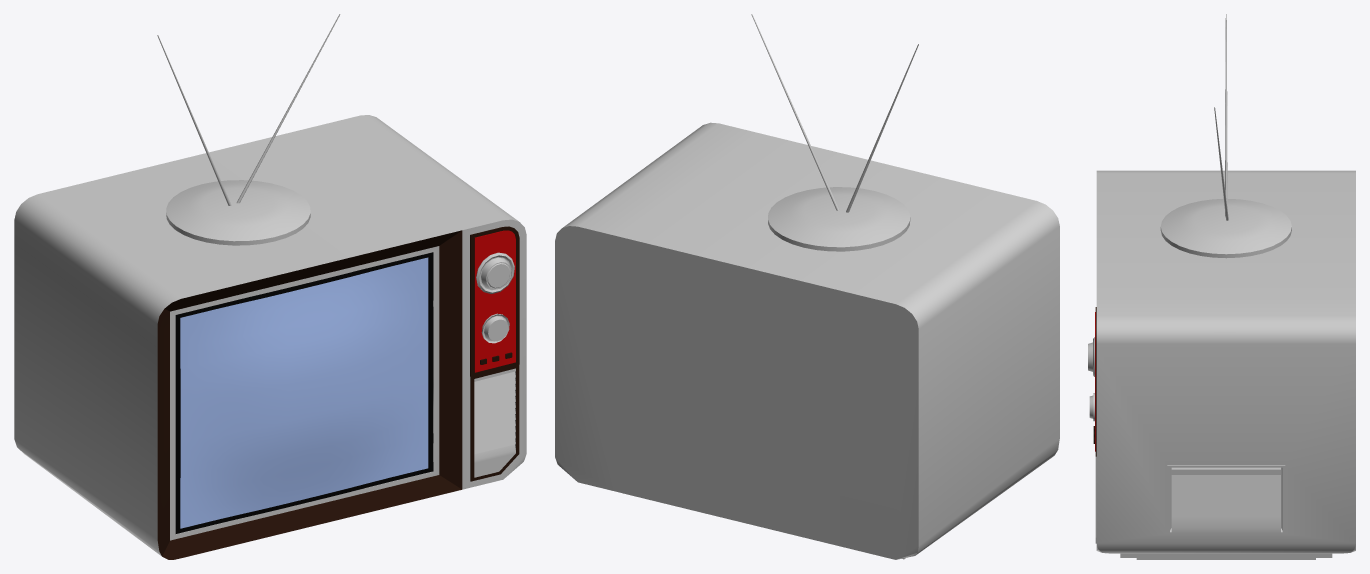
Rendered from retro_tv1.obj.
3 views of the same model, side by side, from view 1: azimuth 30°, elevation 25°; view 2: azimuth 150°, elevation 25°; view 3: azimuth 270°, elevation 25° (orthographic). The views are drawn at different scales.
Parts seen in each view (by area): view 1: Cube, Cube.005, Cylinder.002, Retopo_Cylinder, Retopo_Cylinder.001; view 2: Cube, Cylinder.002; view 3: Cube, Cube.004, Cylinder.002, Cylinder.003.
Boxes of the visible parts, x1,y1,x2,y2 form: Cube: (14,115,526,559); Cube.005: (175,252,433,533); Cylinder.002: (166,180,310,245); Retopo_Cylinder: (476,252,514,293); Retopo_Cylinder.001: (481,313,509,343); Cube: (555,122,1059,559); Cylinder.002: (768,187,910,251); Cube: (1095,170,1355,559); Cube.004: (1171,467,1280,533); Cylinder.002: (1160,199,1291,258); Cylinder.003: (1225,14,1227,216).
Bounding box in the file's own units: 4.05 × 5.01 × 2.79.
